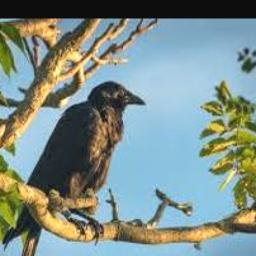Crow: (3, 81, 146, 256)
